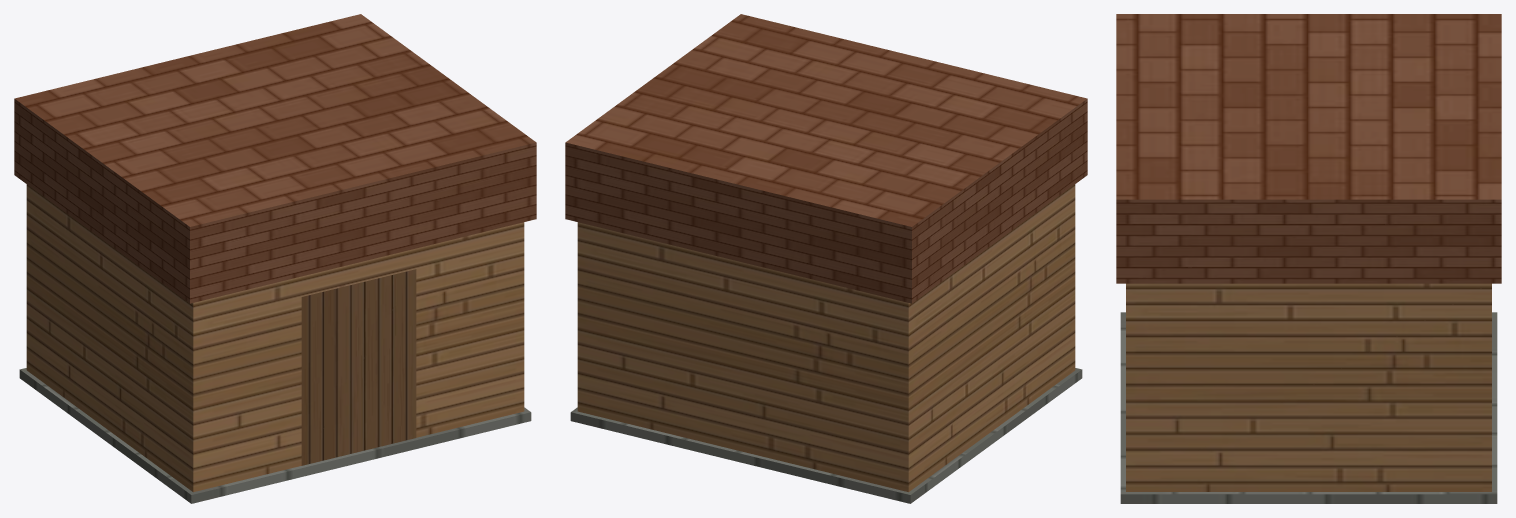
File: house_booth_b_lod1.glb
The picture shows the model from 3 angles, left to right: view 1: azimuth 30°, elevation 25°; view 2: azimuth 150°, elevation 25°; view 3: azimuth 270°, elevation 25°; orthographic projection. The views are drawn at different scales.
Visible parts, largest first — view 1: ae_sand_house_booth_b_lod1; view 2: ae_sand_house_booth_b_lod1; view 3: ae_sand_house_booth_b_lod1.
Part boxes in pixels (x1,y1,x2,y2): ae_sand_house_booth_b_lod1: (14, 14, 536, 503); ae_sand_house_booth_b_lod1: (565, 14, 1087, 503); ae_sand_house_booth_b_lod1: (1116, 14, 1501, 503).
Size of the model in its own units: 4.08 by 3.14 by 3.58.
1 material, 1 textured.
